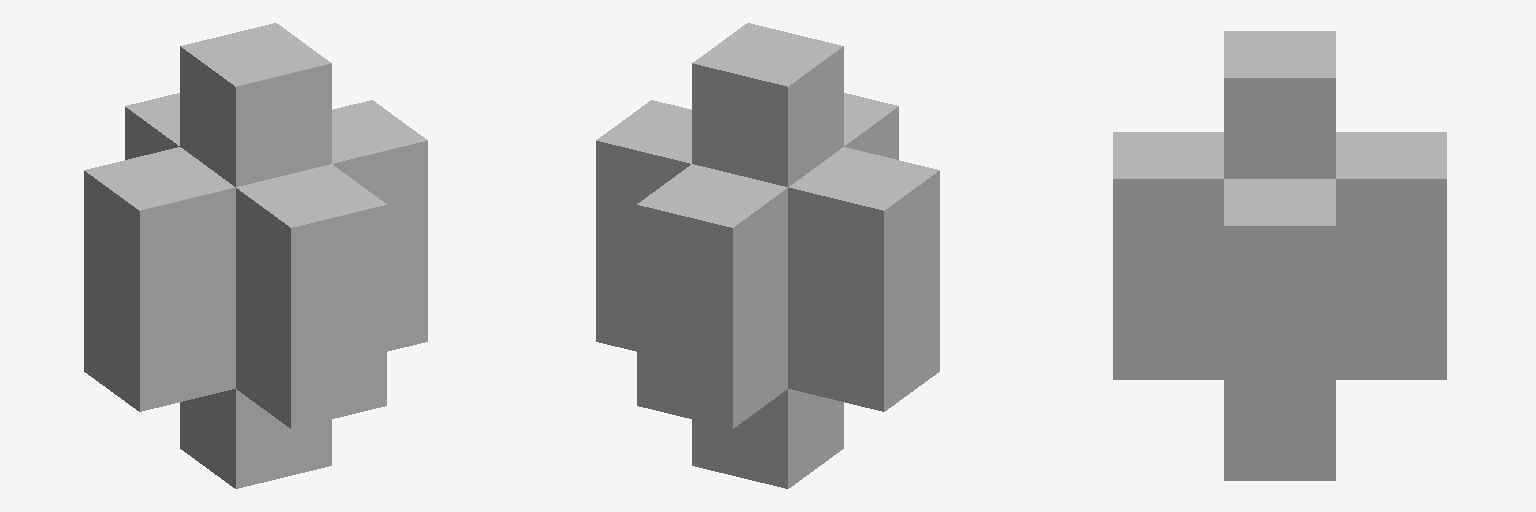
Rendered from food.obj.
The picture shows the model from 3 angles: view 1: azimuth 30°, elevation 25°; view 2: azimuth 150°, elevation 25°; view 3: azimuth 270°, elevation 25°; orthographic projection.
Parts seen in each view (by area): view 1: object 1; view 2: object 1; view 3: object 1.
Boxes of the visible parts, x1,y1,x2,y2 form: object 1: [84, 23, 427, 488]; object 1: [596, 23, 939, 488]; object 1: [1113, 31, 1446, 480].
Size of the model in its own units: 0.3 by 0.4 by 0.3.